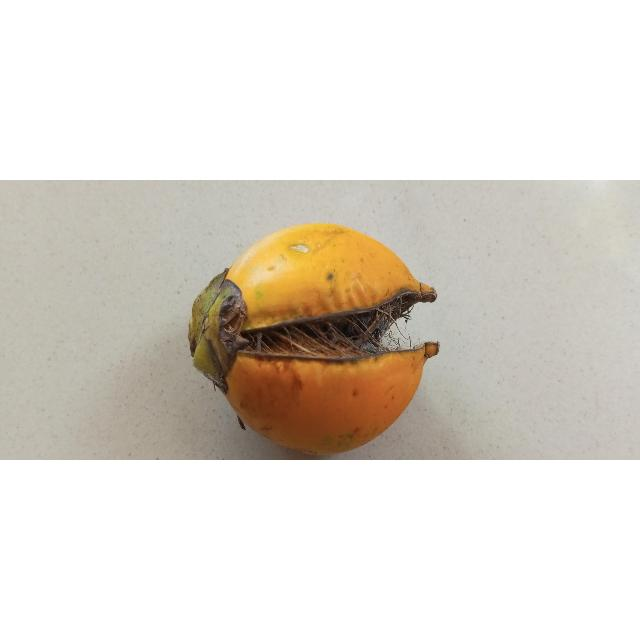damaged: (188, 224, 439, 455)
